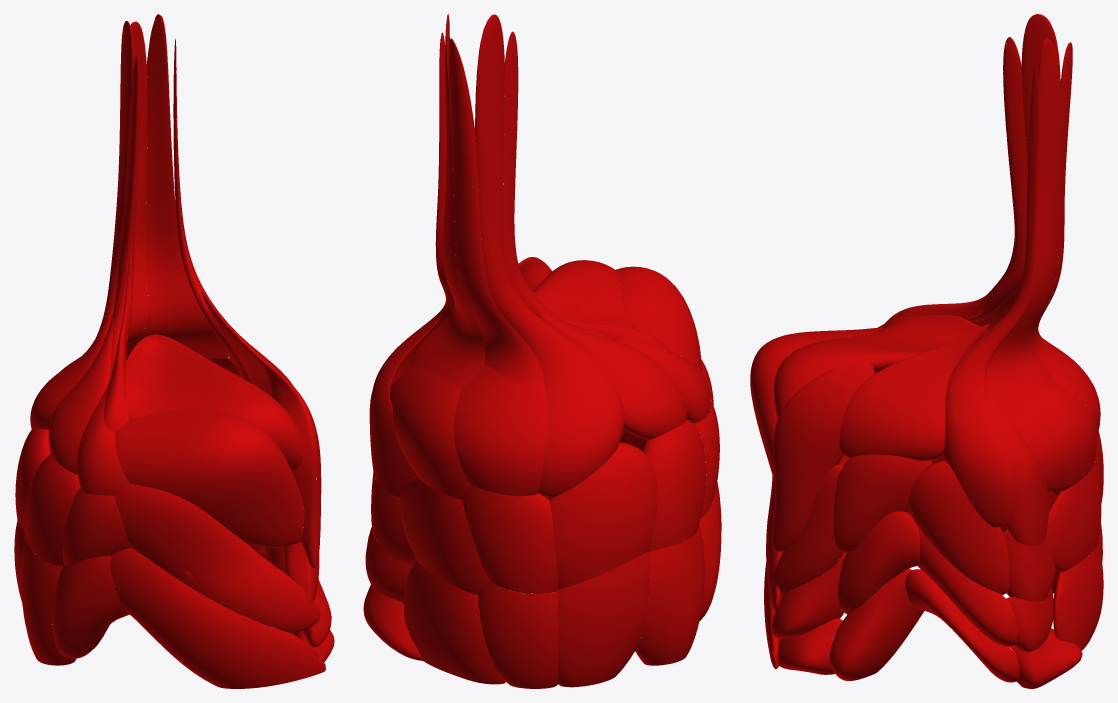
File: e66-red-v32.glb
3 views of the same model, side by side, from view 1: azimuth 30°, elevation 25°; view 2: azimuth 150°, elevation 25°; view 3: azimuth 270°, elevation 25° (orthographic). The views are drawn at different scales.
Visible parts, largest first — view 1: Object_1; view 2: Object_1; view 3: Object_1.
Part boxes in pixels (bbox=[...]): Object_1: bbox=[14, 14, 334, 688]; Object_1: bbox=[363, 14, 721, 688]; Object_1: bbox=[750, 14, 1103, 688].
Bounding box in the file's own units: 0.6043 × 1.24 × 0.6467.
1 material, 1 textured.
